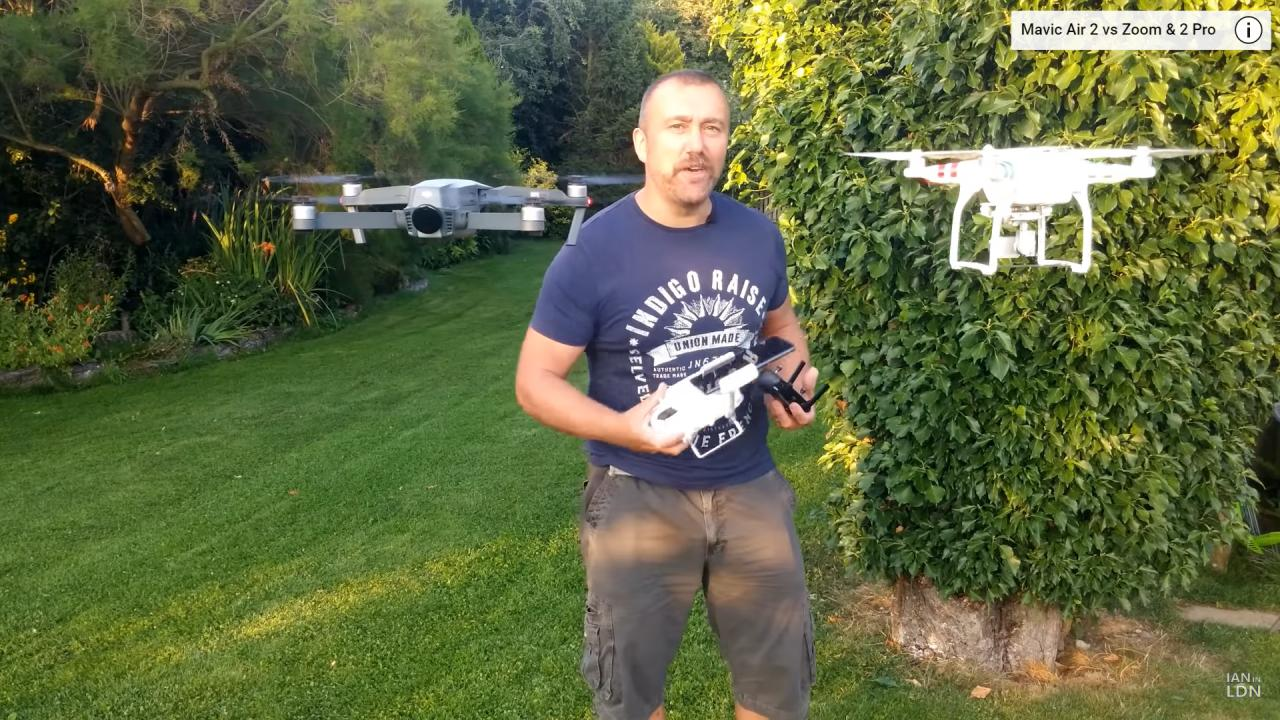Drone: (823, 134, 1245, 289), (240, 159, 662, 260)
